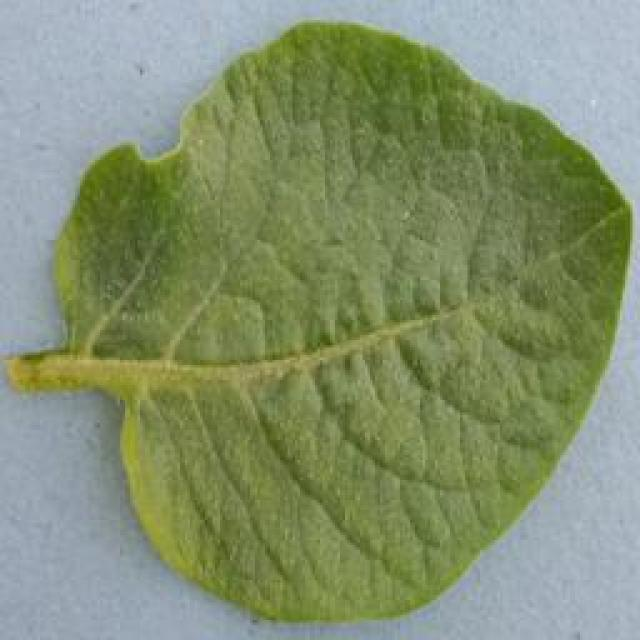Potato_Healthy: (6, 7, 634, 632)
